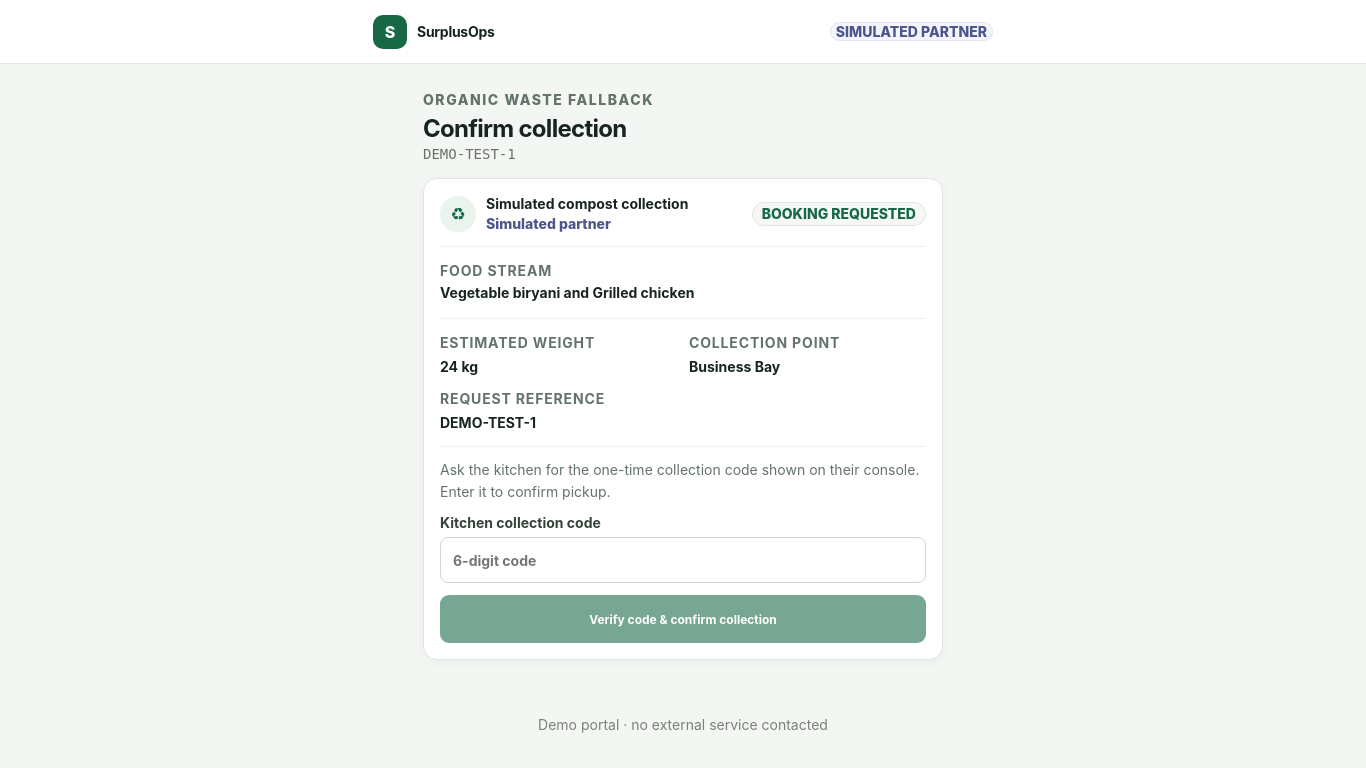
ConsolePage three-state presentation › requires a one-time compost collection code instead of a portal access code
The image size is (1366, 768).
Check: the heading "Confirm collection" is shown, box [423,114,626,143]
Check: the button "Verify code & confirm collection" is disabled, box [440,596,926,644]
Type "321654" into the field labelled "Kitchen collection code". click: (683, 560)
box: [440,538,926,584]
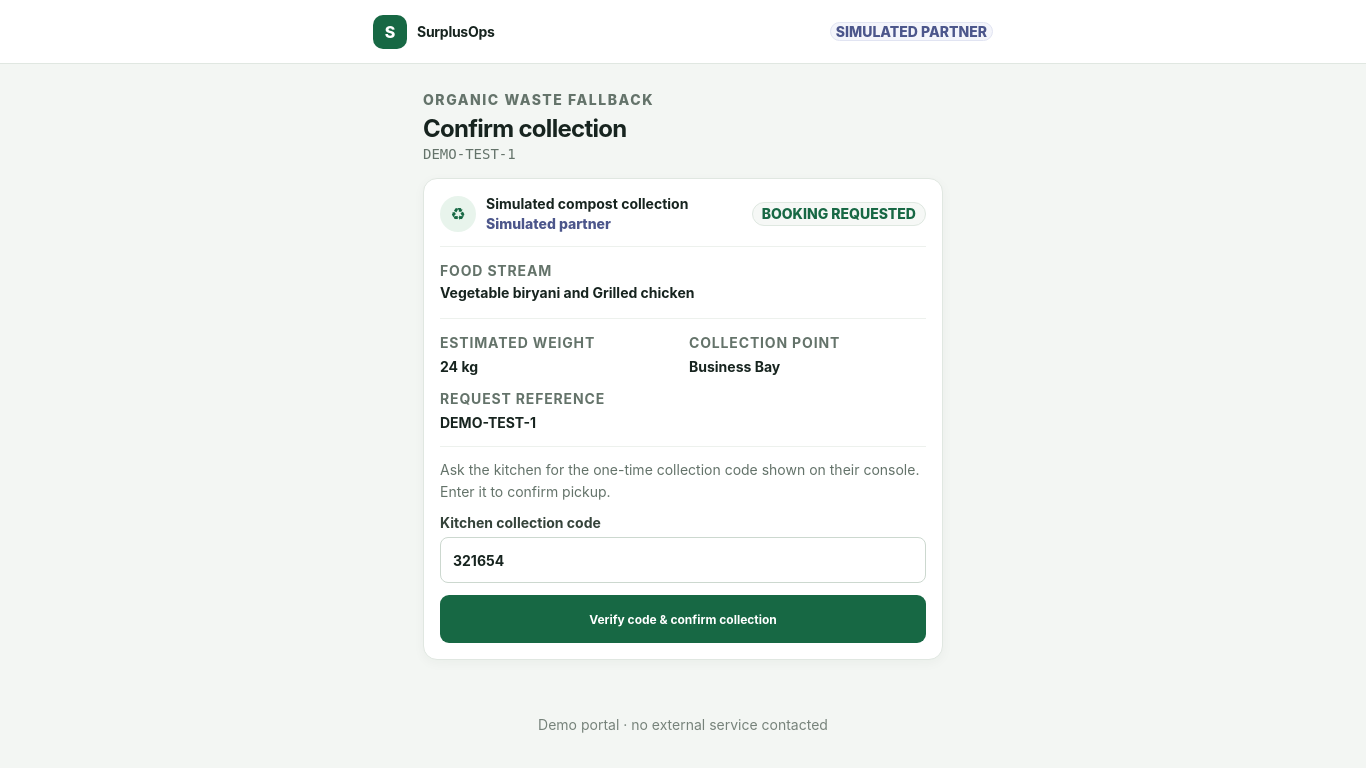
Check: the button "Verify code & confirm collection" is enabled, box [440,596,926,644]
